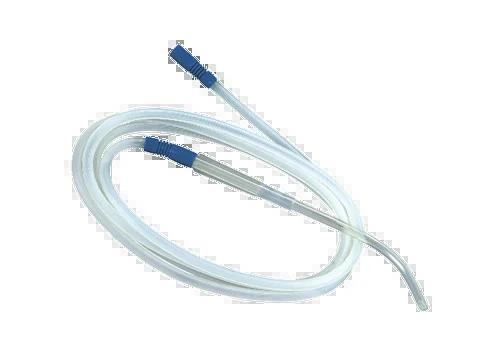Suction Tube Nozzle: (69, 42, 433, 315)
